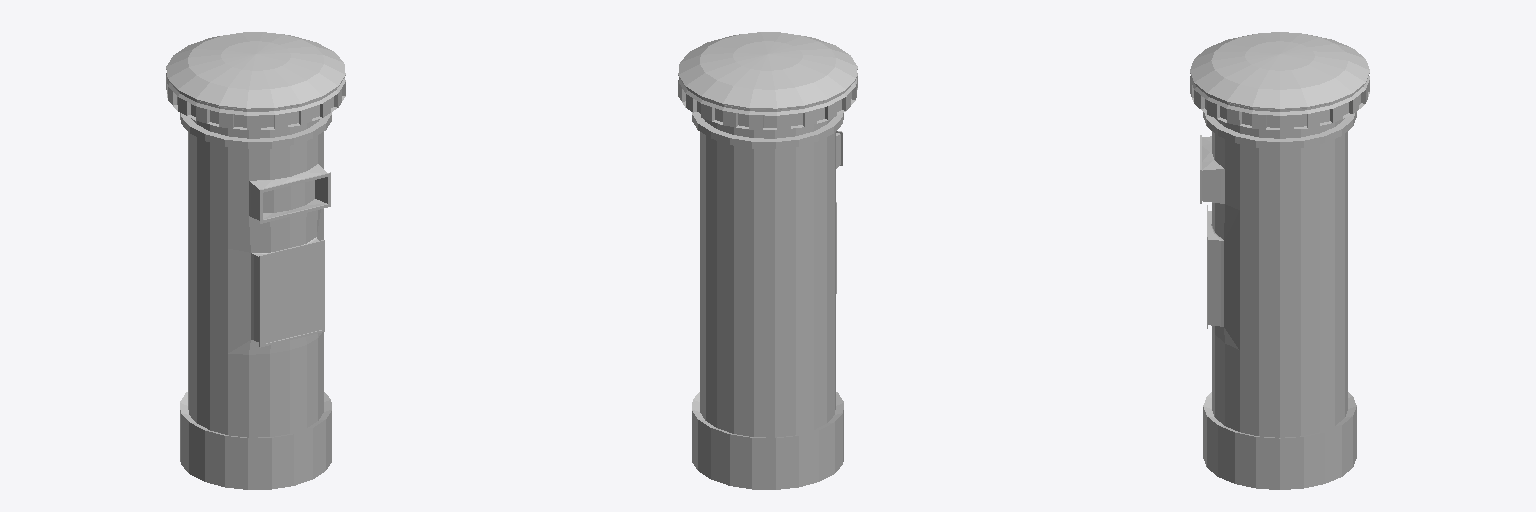
The model's file is postbox.obj.
The picture shows the model from 3 angles: view 1: azimuth 30°, elevation 25°; view 2: azimuth 150°, elevation 25°; view 3: azimuth 270°, elevation 25°; orthographic projection.
Parts seen in each view (by area): view 1: polySurface470; view 2: polySurface470; view 3: polySurface470.
Boxes of the visible parts, <box> form: polySurface470: <box>166,32,345,489</box>; polySurface470: <box>678,32,857,489</box>; polySurface470: <box>1190,32,1369,489</box>.
Bounding box in the file's own units: 110 × 271 × 110.